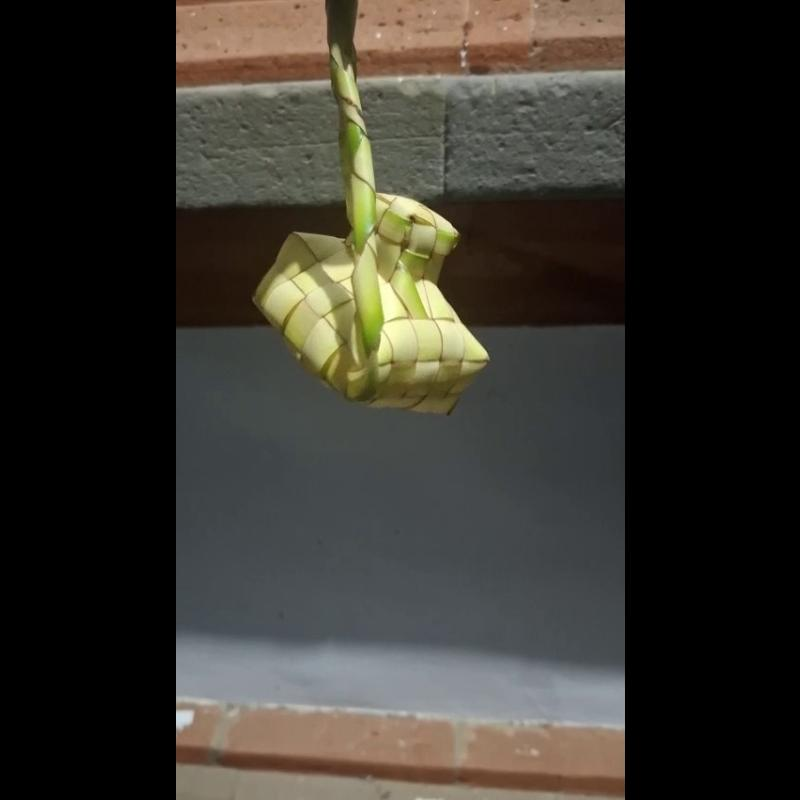Tipat Gong: (253, 0, 492, 423)
